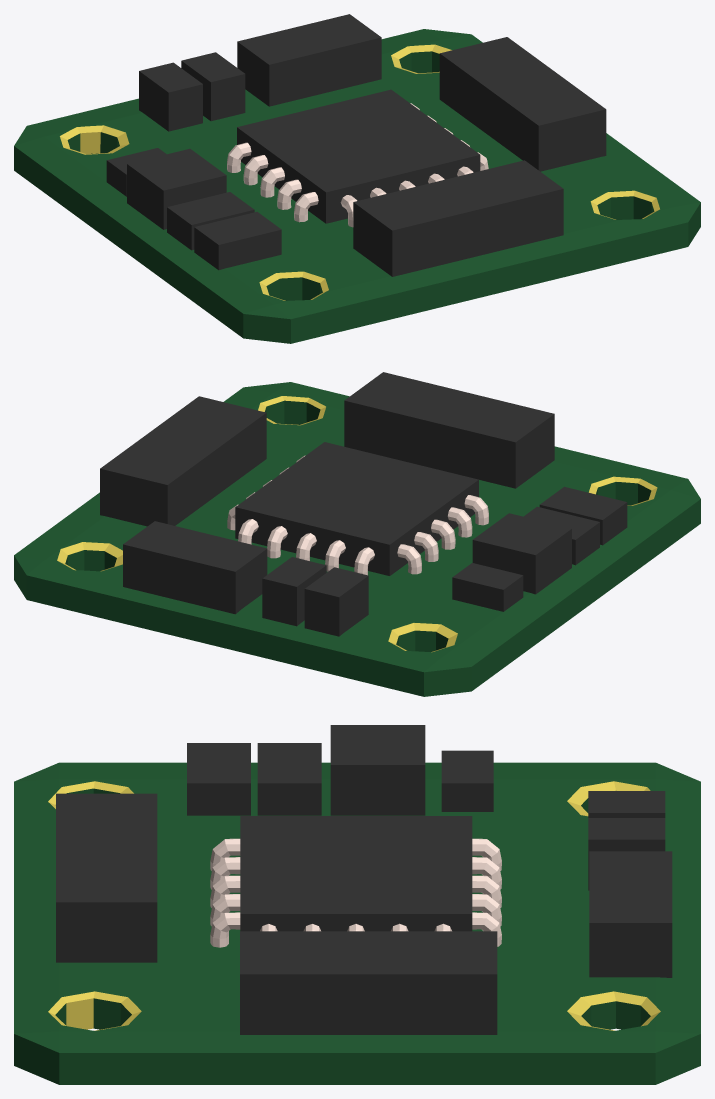
File: ElectricCircuitBoard.glb
The picture shows the model from 3 angles, top to bottom: view 1: azimuth 30°, elevation 25°; view 2: azimuth 150°, elevation 25°; view 3: azimuth 270°, elevation 25°; orthographic projection. The views are drawn at different scales.
Visible parts, largest first — view 1: Cube.002, Cylinder.009, Cube.001, Cube.010, Cube.009, Cube.005, Cube.003, Cube.007, Cube.008, Cube.004, Cube.006; view 2: Cube.002, Cylinder.009, Cube.001, Cube.010, Cube.009, Cube.005, Cube.007, Cube.008, Cube.006, Cube.003, Cube.004; view 3: Cube.002, Cylinder.009, Cube.010, Cube.001, Cube.009, Cube.005, Cube.004, Cube.003, Cube.006, Cube.008, Cube.007.
Boxes of the visible parts, x1,y1,x2,y2 form: Cube.002: (14, 29, 700, 343); Cylinder.009: (227, 89, 488, 227); Cube.001: (353, 160, 563, 276); Cube.010: (439, 37, 606, 171); Cube.009: (237, 14, 381, 106); Cube.005: (127, 148, 226, 229); Cube.003: (194, 212, 281, 270); Cube.007: (139, 62, 202, 131); Cube.008: (181, 52, 245, 121); Cube.004: (167, 192, 254, 250); Cube.006: (106, 148, 166, 196); Cube.002: (14, 382, 700, 696); Cylinder.009: (227, 442, 488, 575); Cube.001: (344, 372, 554, 488); Cube.010: (100, 396, 266, 526); Cube.009: (123, 521, 267, 614); Cube.005: (472, 513, 571, 594); Cube.007: (304, 567, 368, 636); Cube.008: (262, 557, 326, 626); Cube.006: (452, 563, 523, 611); Cube.003: (539, 486, 627, 545); Cube.004: (524, 506, 599, 565); Cube.002: (14, 762, 700, 1084); Cylinder.009: (210, 816, 501, 947); Cube.010: (240, 931, 497, 1034); Cube.001: (56, 793, 157, 962); Cube.009: (589, 851, 672, 977); Cube.005: (330, 725, 425, 815); Cube.004: (257, 743, 321, 815); Cube.003: (187, 743, 250, 815); Cube.006: (441, 750, 493, 811); Cube.008: (588, 818, 665, 890); Cube.007: (588, 791, 665, 817).
Bounding box in the file's own units: 0.8446 × 0.1319 × 0.8446.
